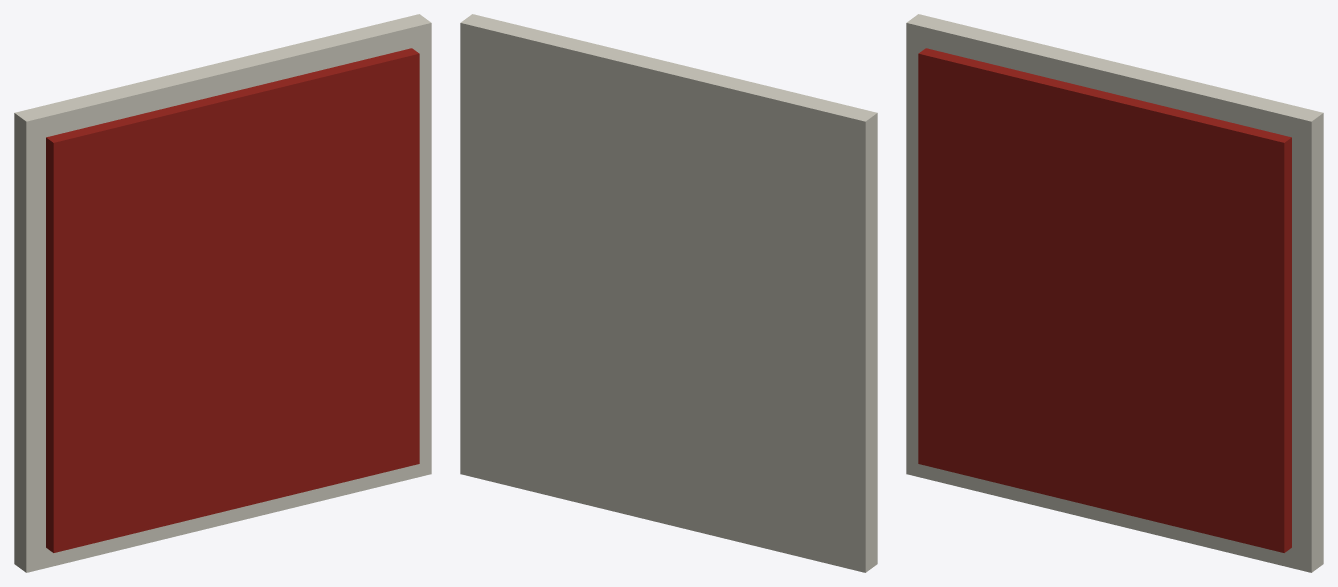
File: SM_09_Central_Blank_Panel.fbx
The picture shows the model from 3 angles, left to right: view 1: azimuth 30°, elevation 25°; view 2: azimuth 150°, elevation 25°; view 3: azimuth 330°, elevation 25°; orthographic projection.
Parts seen in each view (by area): view 1: Central_Blank_Panel; view 2: Central_Blank_Panel; view 3: Central_Blank_Panel.
Boxes of the visible parts, box(x1,y1,x2,y2) form: Central_Blank_Panel: box(14, 14, 431, 572); Central_Blank_Panel: box(460, 14, 877, 572); Central_Blank_Panel: box(906, 14, 1323, 572).
Size of the model in its own units: 310 by 26 by 330.
